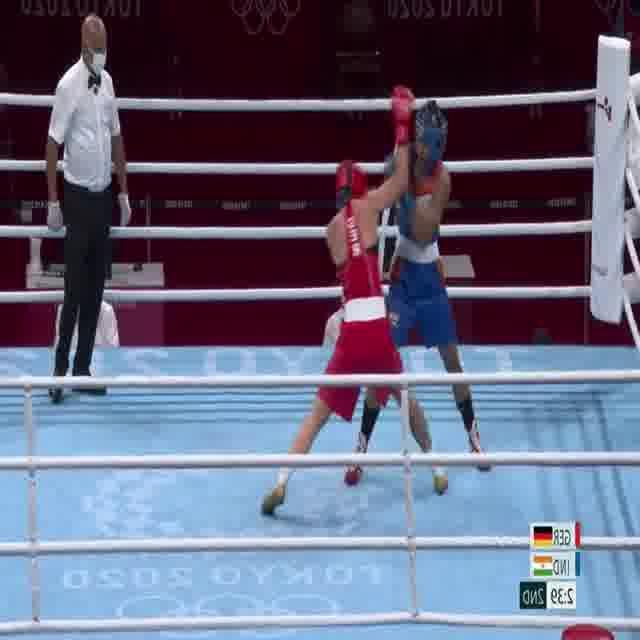blue-player: (343, 99, 494, 487)
red-player: (258, 80, 452, 516)
referee: (42, 10, 134, 409)
